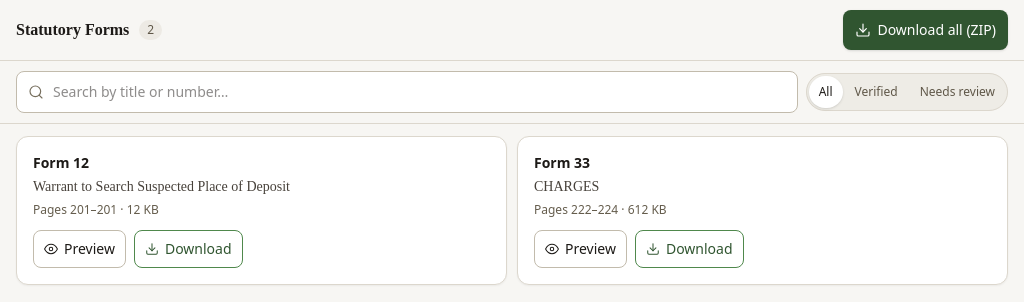
Scenario: FormsPanel › shows an empty state when no forms match
Expected: the text "Form 12" is shown, [33,153,89,173]
Type "zzz" into the search field named "Search forms".
click(407, 92); type("zzz")  # box [16,71,798,113]
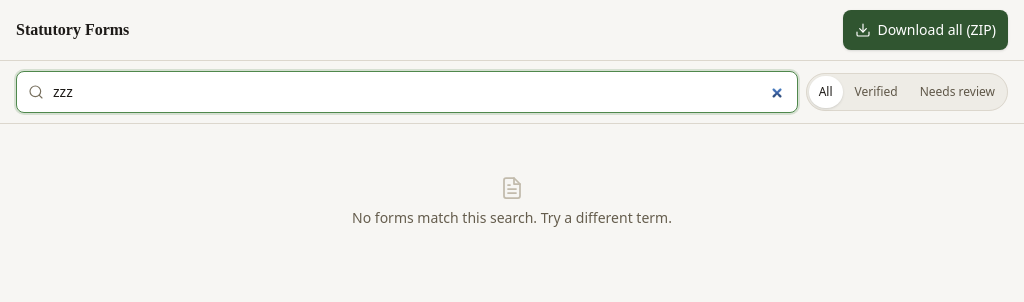
Result: the text "No forms match this search. Try a different term." is shown at [352,208,672,228]
